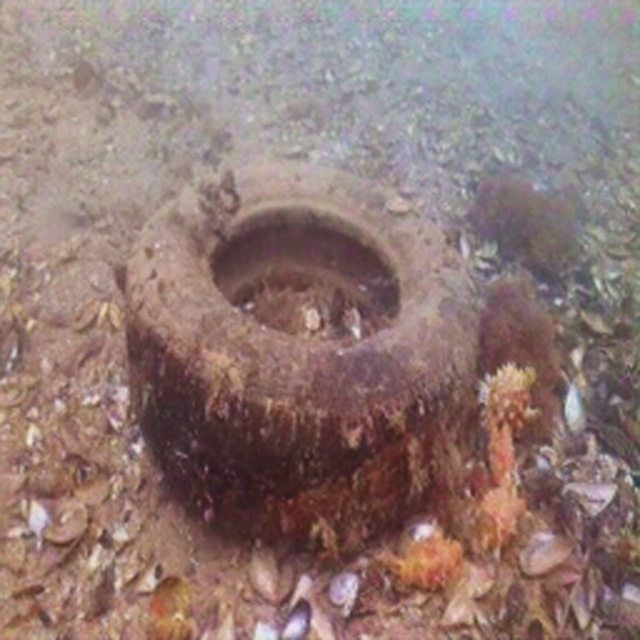mine: (129, 167, 477, 552)
